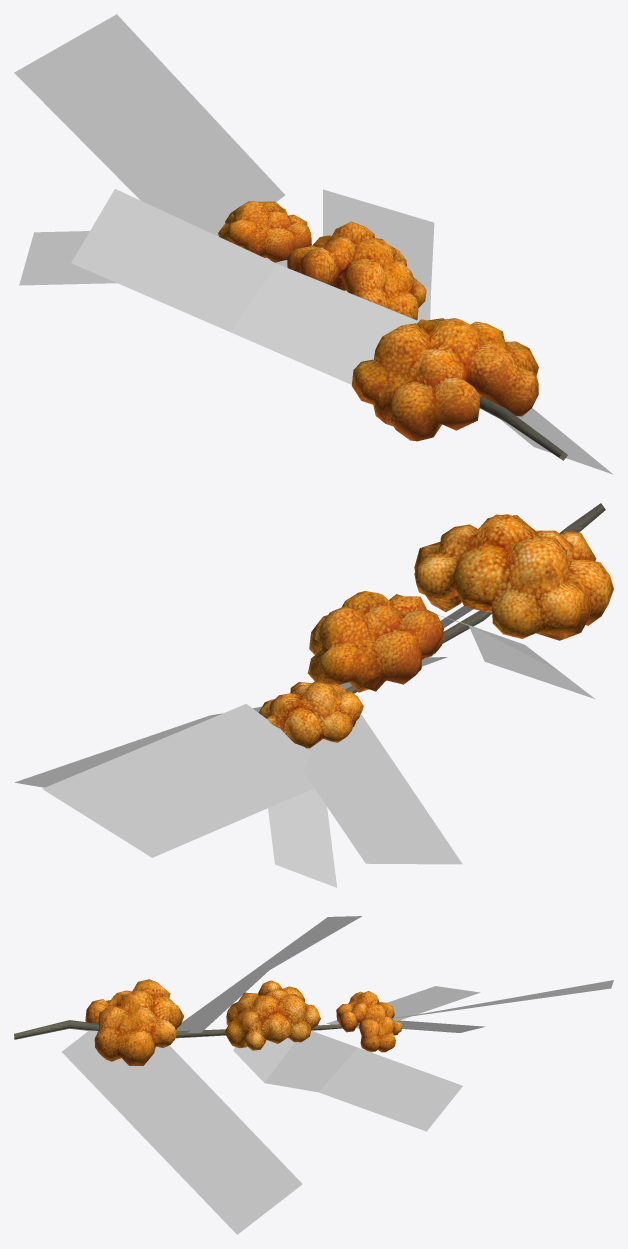
Rendered from Debregeasia_Fruit.fbx.
The picture shows the model from 3 angles, top to bottom: view 1: azimuth 30°, elevation 25°; view 2: azimuth 150°, elevation 25°; view 3: azimuth 270°, elevation 25°; orthographic projection. The views are drawn at different scales.
Visible parts, largest first — view 1: Fruit_LOD0; view 2: Fruit_LOD0; view 3: Fruit_LOD0.
Boxes of the visible parts, x1,y1,x2,y2 form: Fruit_LOD0: (14, 14, 613, 474); Fruit_LOD0: (14, 503, 613, 887); Fruit_LOD0: (14, 916, 613, 1234).
Size of what is drawn, in the model's own units: 16.31 by 10.28 by 28.51.
